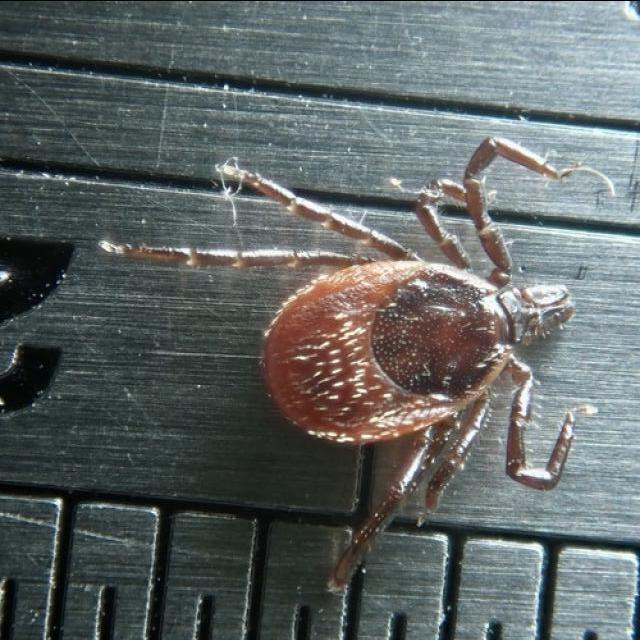Ixodes Ricinus-F: (97, 136, 595, 591)
